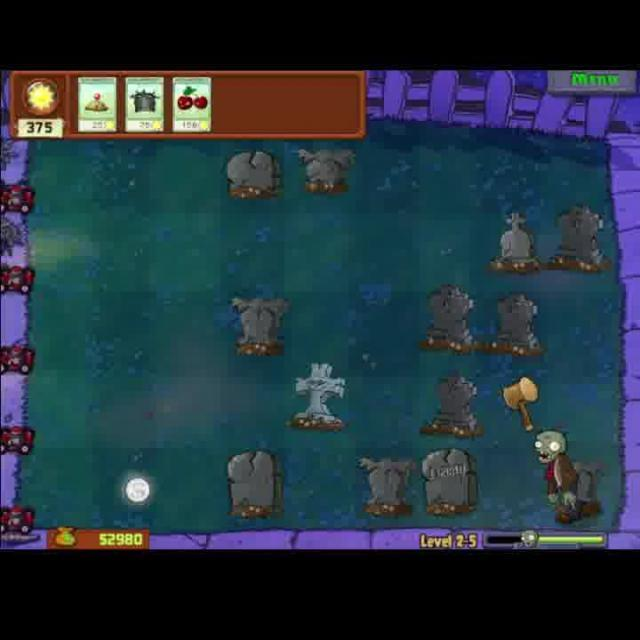coins: (122, 471, 153, 509)
zombies: (528, 426, 588, 529)
